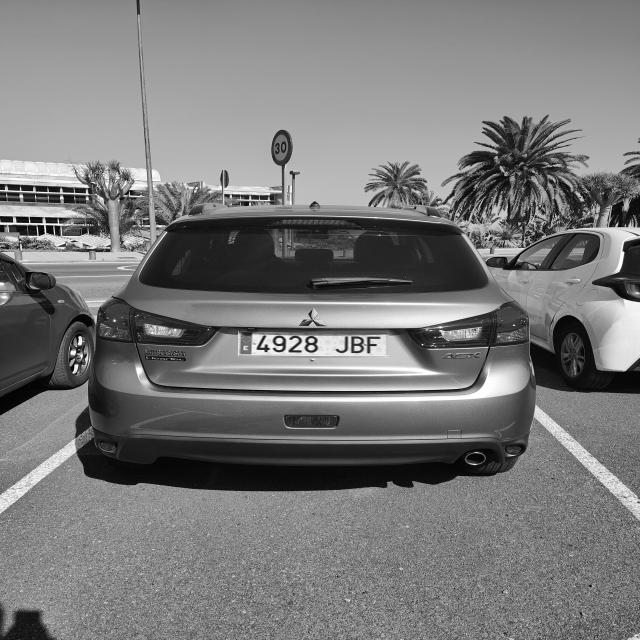License-Plate: (238, 332, 389, 358)
